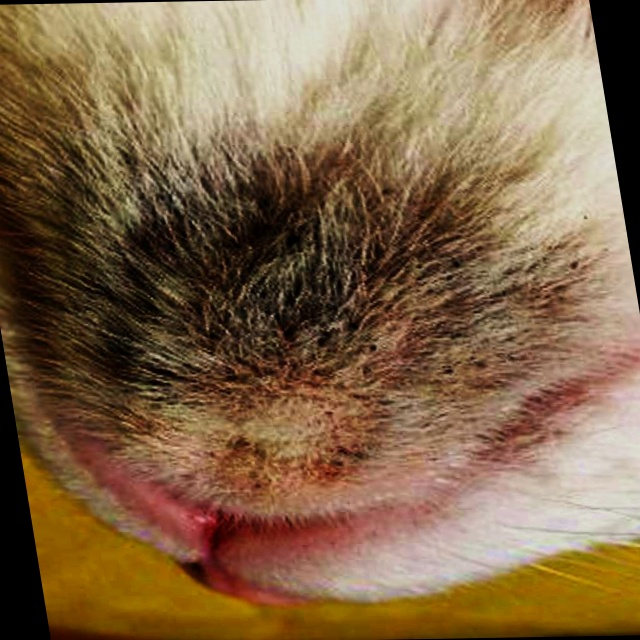acne: (101, 192, 490, 426)
